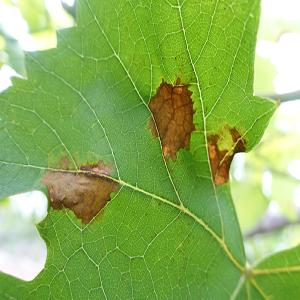Folha: (0, 0, 298, 299)
Fungo: (39, 156, 121, 224), (147, 76, 197, 162), (207, 122, 247, 186), (78, 158, 114, 176), (58, 154, 70, 170)
